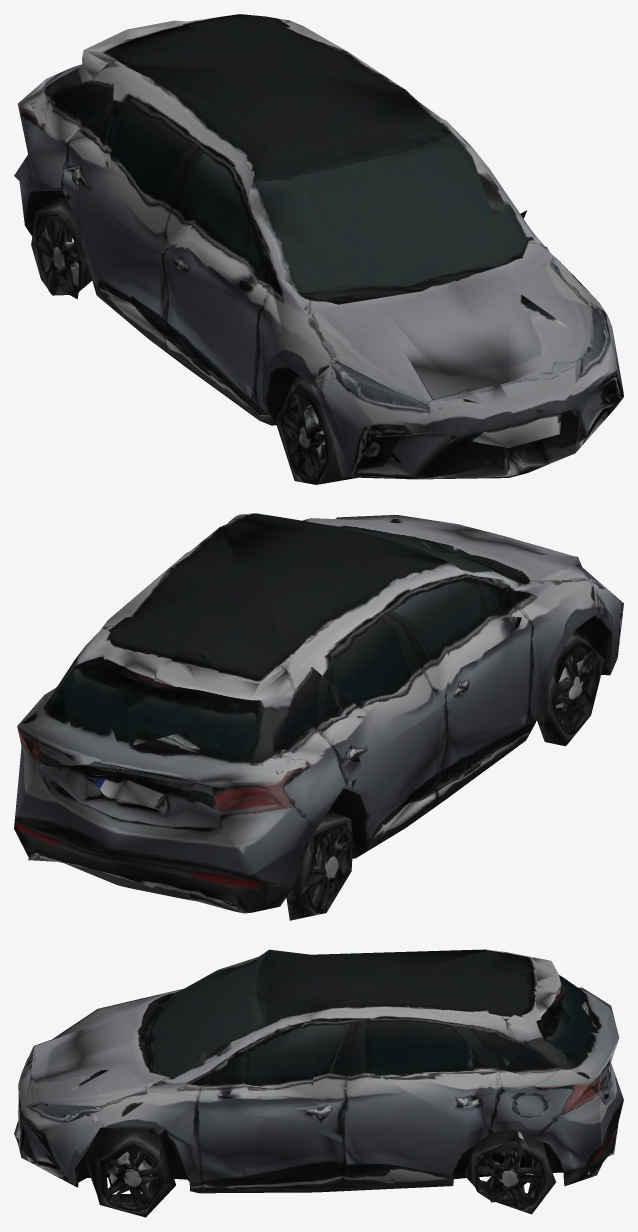
Rendered from car_sedan_lod1.glb.
3 views of the same model, one above another, from view 1: azimuth 30°, elevation 25°; view 2: azimuth 150°, elevation 25°; view 3: azimuth 270°, elevation 25° (orthographic). The views are drawn at different scales.
Parts seen in each view (by area): view 1: tripo_node_d8eab706-6e00-4dd5-990c-505bb09c3191; view 2: tripo_node_d8eab706-6e00-4dd5-990c-505bb09c3191; view 3: tripo_node_d8eab706-6e00-4dd5-990c-505bb09c3191.
Boxes of the visible parts, <box> form: tripo_node_d8eab706-6e00-4dd5-990c-505bb09c3191: <box>14,14,623,484</box>; tripo_node_d8eab706-6e00-4dd5-990c-505bb09c3191: <box>14,513,623,920</box>; tripo_node_d8eab706-6e00-4dd5-990c-505bb09c3191: <box>14,949,623,1217</box>.
Size of the model in its own units: 1.76 by 1.49 by 4.11.
Materials: 1 (1 with a texture image).
